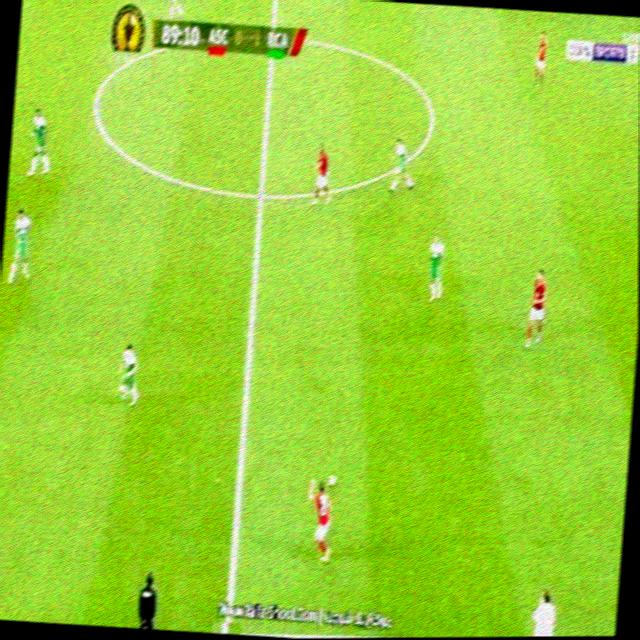halfcircle_bottom: (246, 175, 274, 214)
halfcircle_top: (256, 21, 288, 51)
midline_bottom_intersection: (210, 621, 240, 634)
